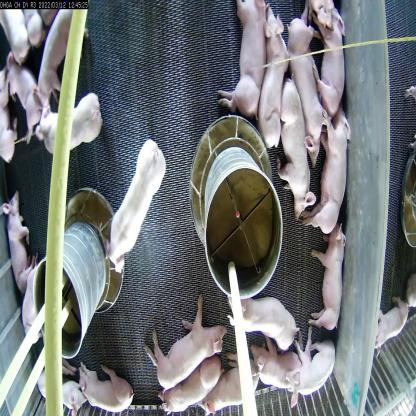Pig: (145, 296, 233, 394), (107, 137, 169, 271), (219, 0, 268, 127), (286, 13, 326, 160), (278, 79, 315, 226), (312, 10, 362, 116), (230, 277, 300, 345), (312, 218, 352, 336), (257, 10, 288, 158), (32, 10, 76, 108), (317, 102, 347, 241), (248, 339, 311, 401), (5, 186, 38, 297), (37, 102, 103, 155), (288, 342, 346, 402), (80, 353, 135, 416), (164, 357, 222, 415), (10, 53, 43, 124), (214, 368, 261, 415)
